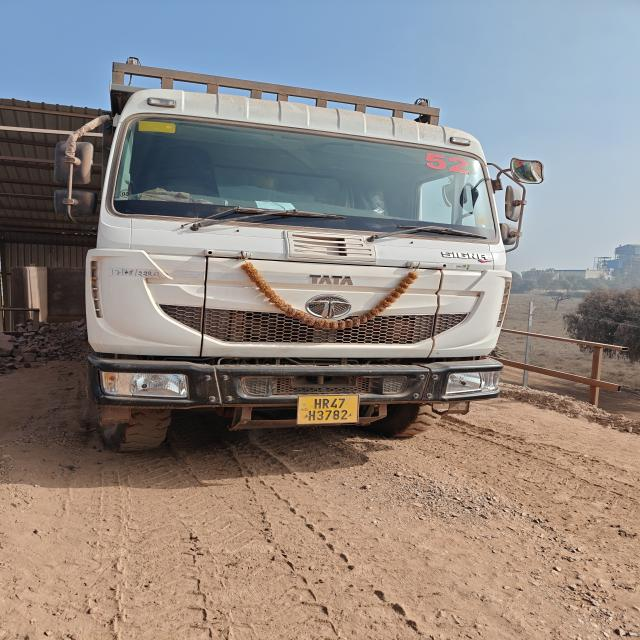license_plate: (298, 395, 359, 424)
